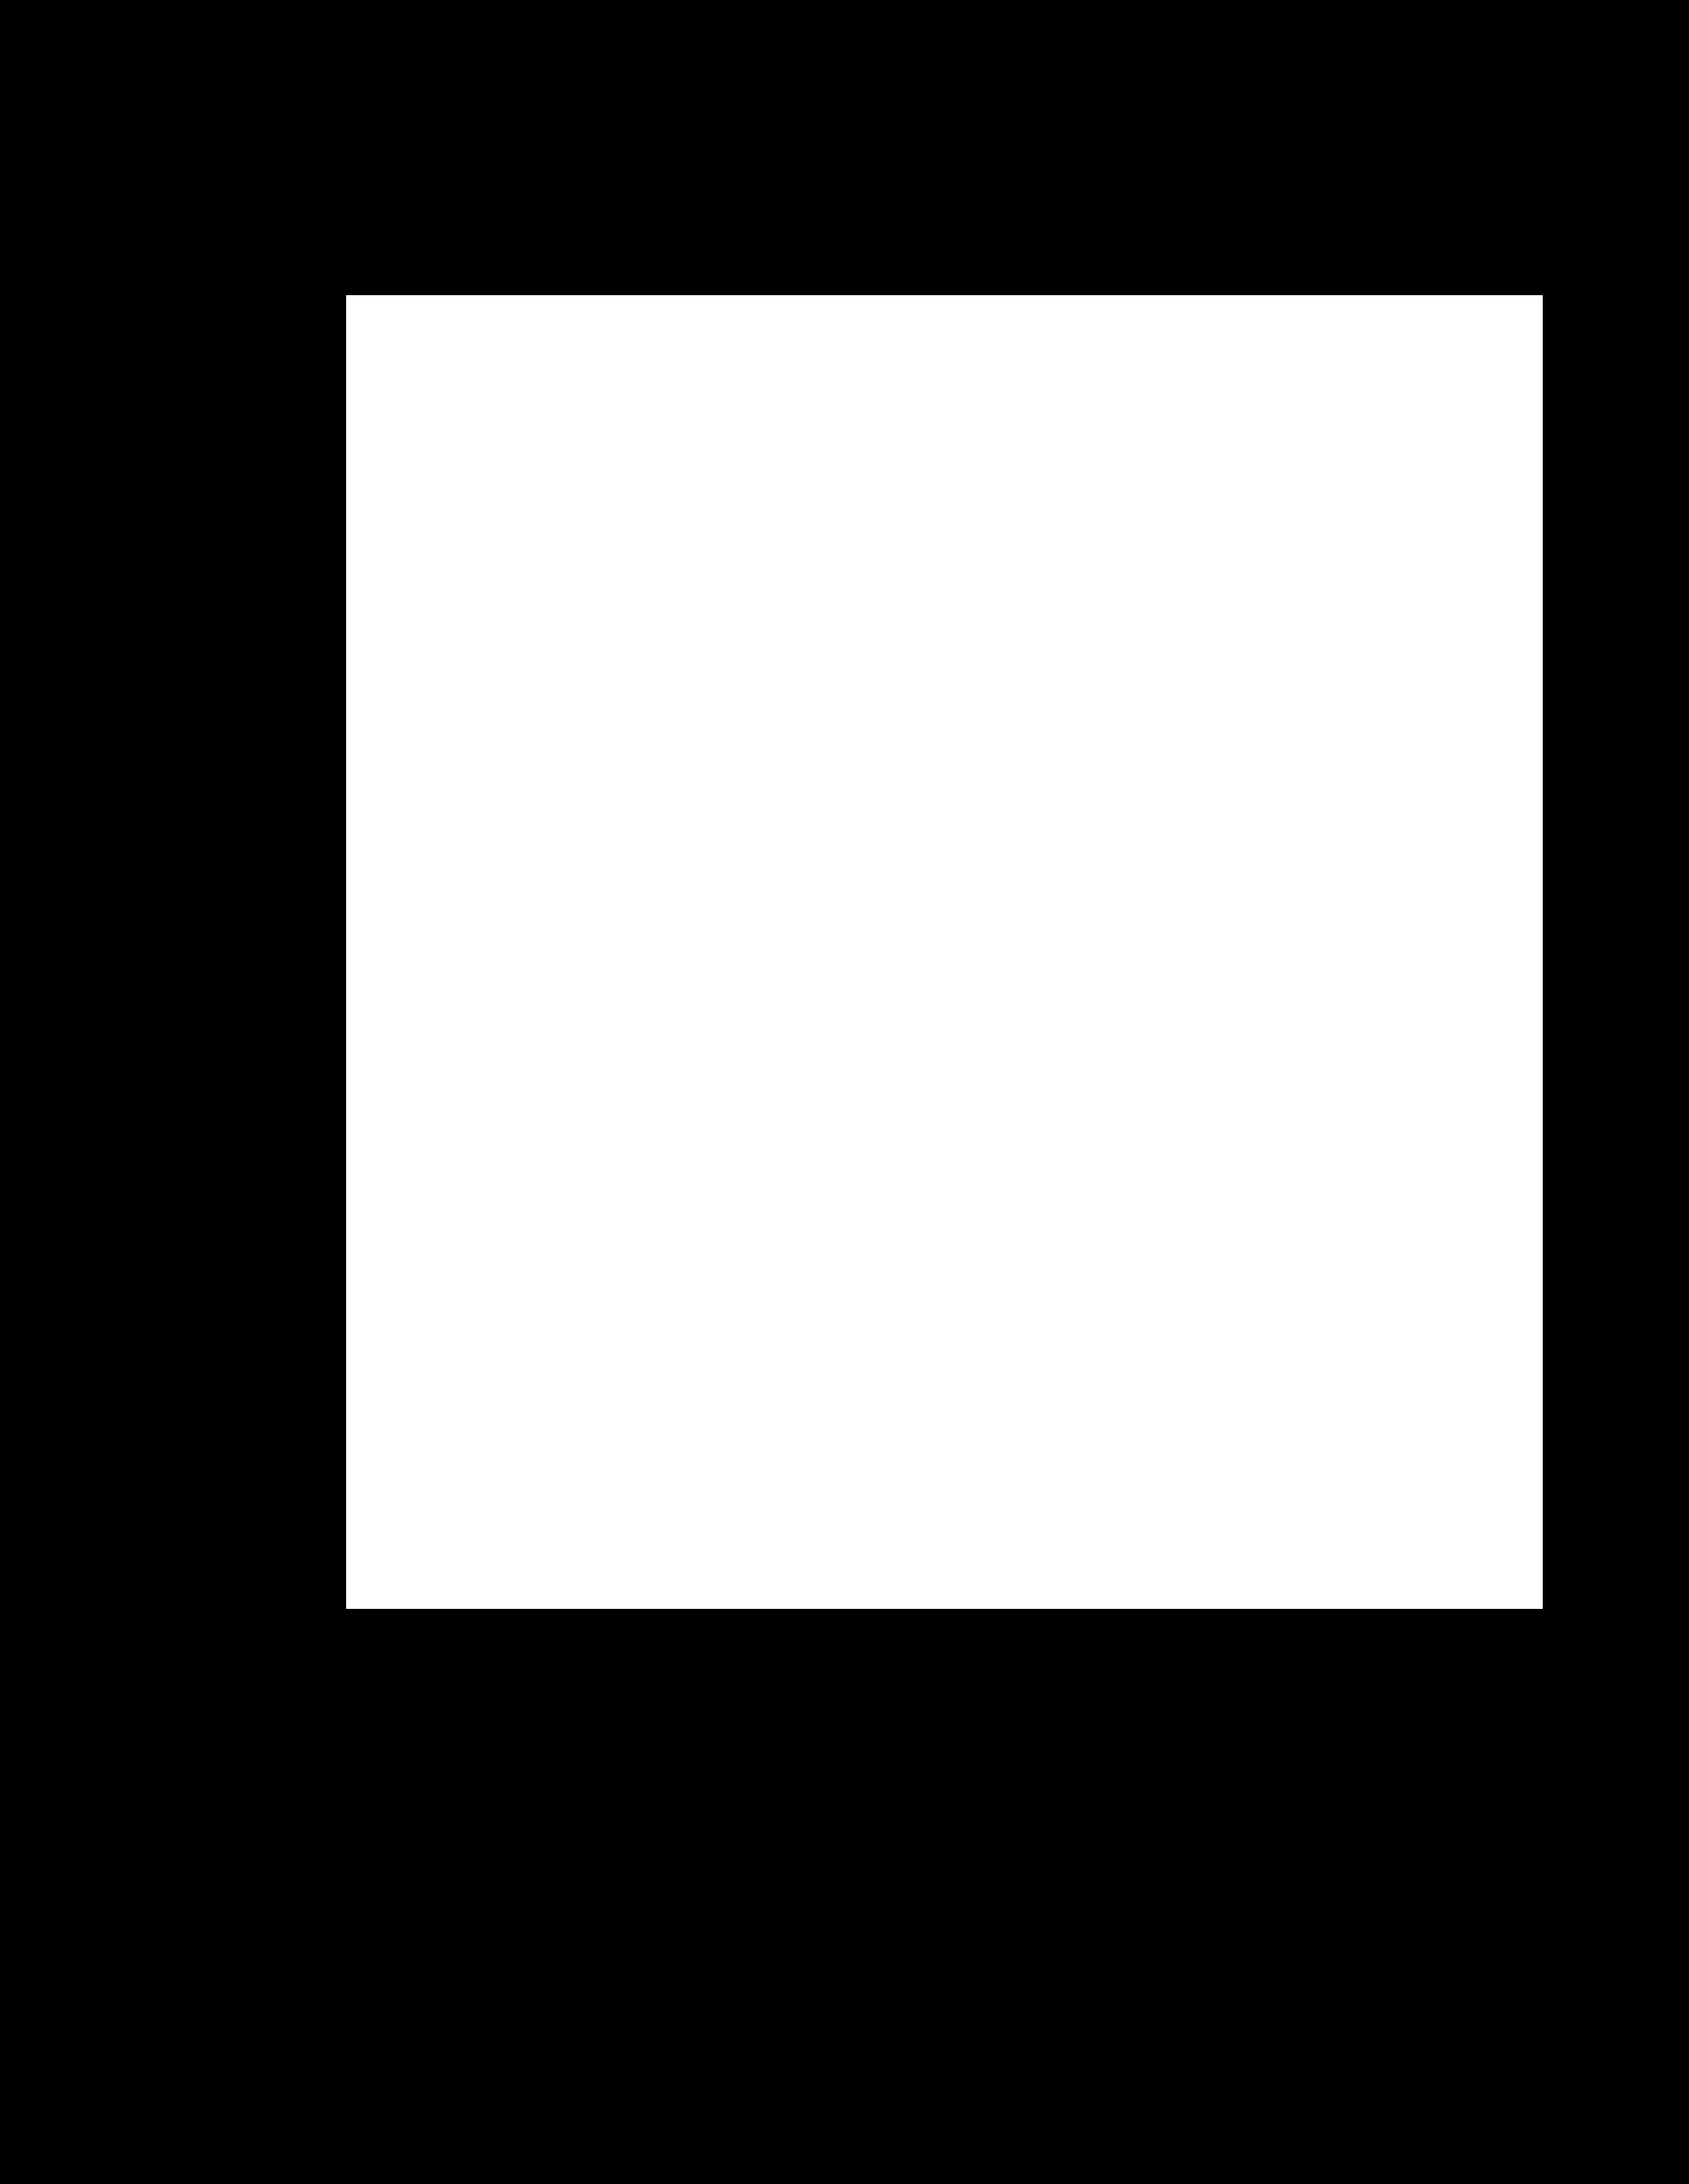table: (346, 296, 1542, 1608)
